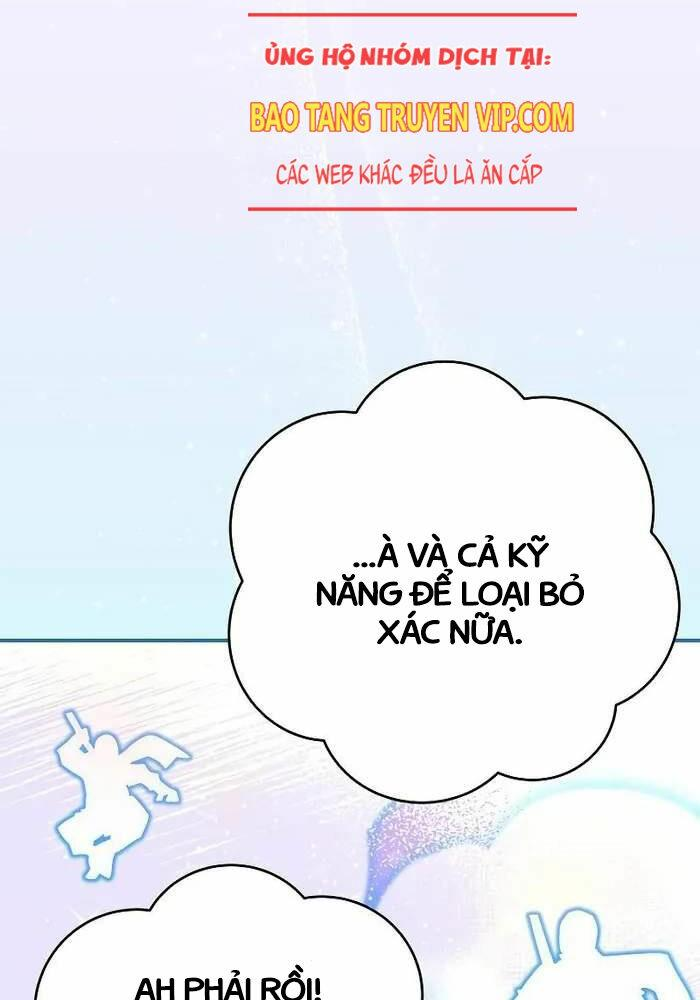quangcao: (247, 14, 577, 211)
